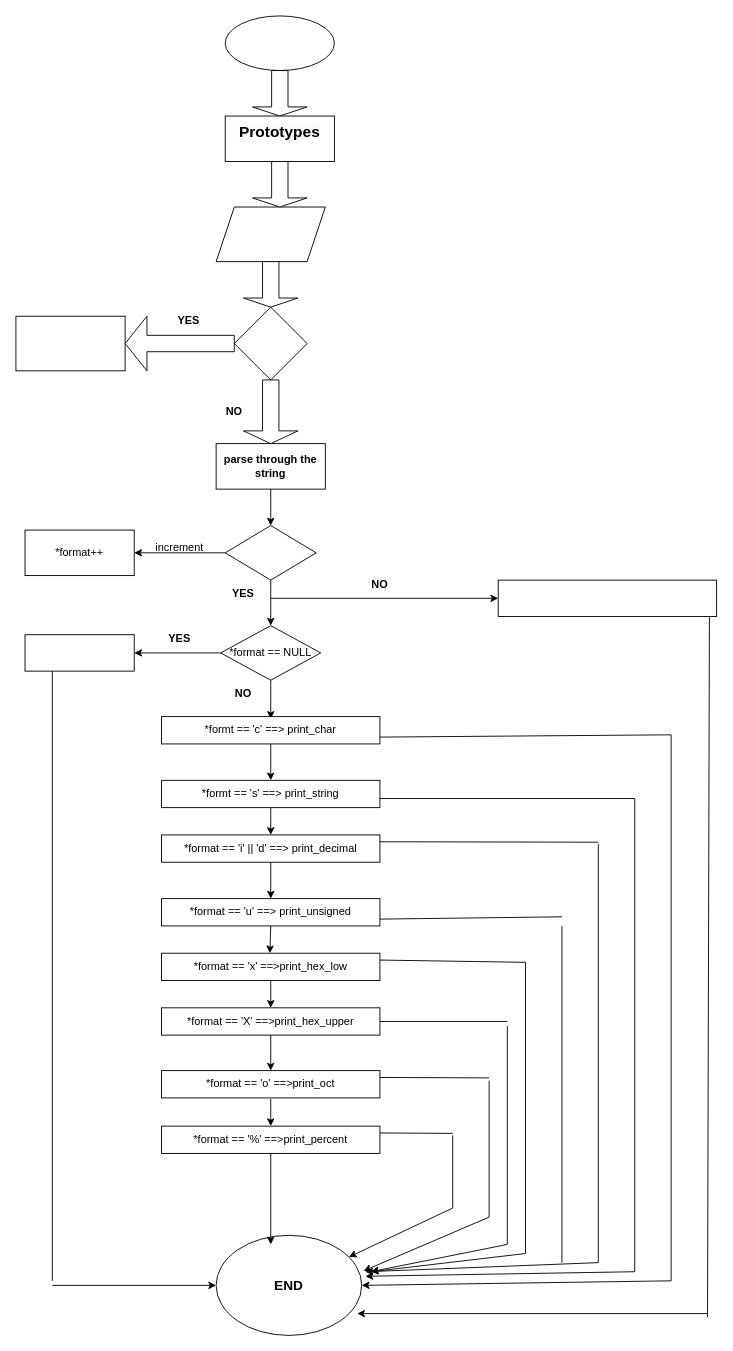
Some shapes in this 733 by 1351 pixel diagram are drawn without their labels. Each missing label, with the box of its shape:
*format == %: (224, 525, 316, 580)
Is NULL: (233, 306, 307, 380)
Return (i): (15, 315, 125, 371)
return i-1 (%): (24, 634, 134, 671)
return(*format): (497, 579, 717, 617)
start: (224, 15, 334, 71)
String input: (215, 206, 325, 262)
